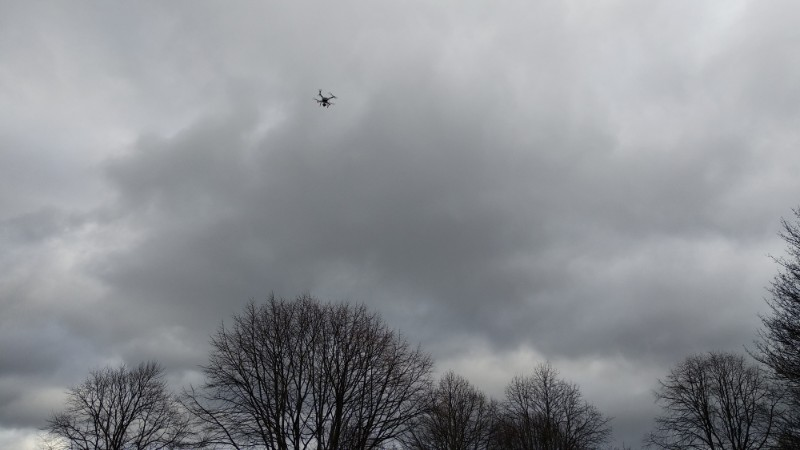drone: (314, 89, 337, 108)
